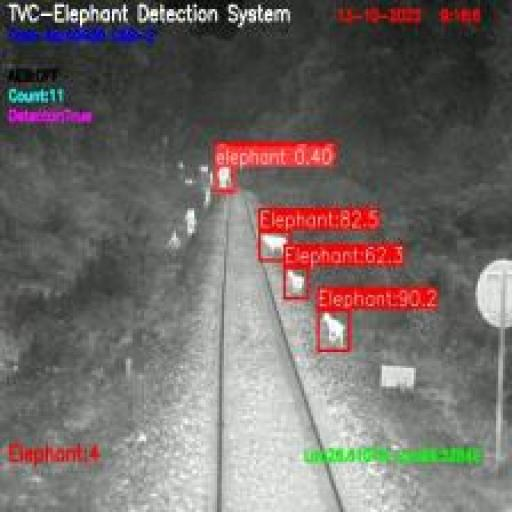Elephant: (215, 165, 234, 192)
